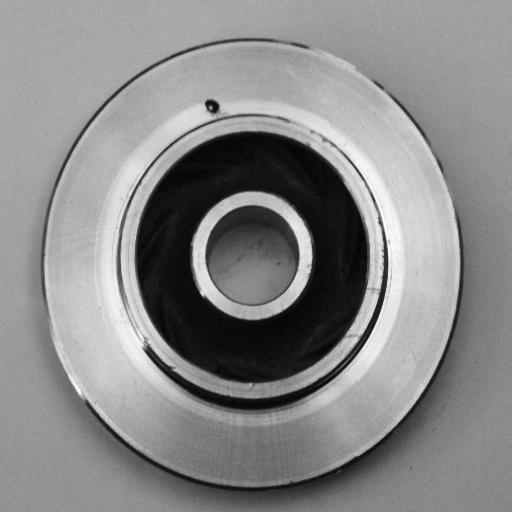pit: (199, 91, 225, 120)
scratch: (113, 286, 159, 363), (279, 110, 349, 154)
unpolished_casting: (43, 35, 467, 494)
